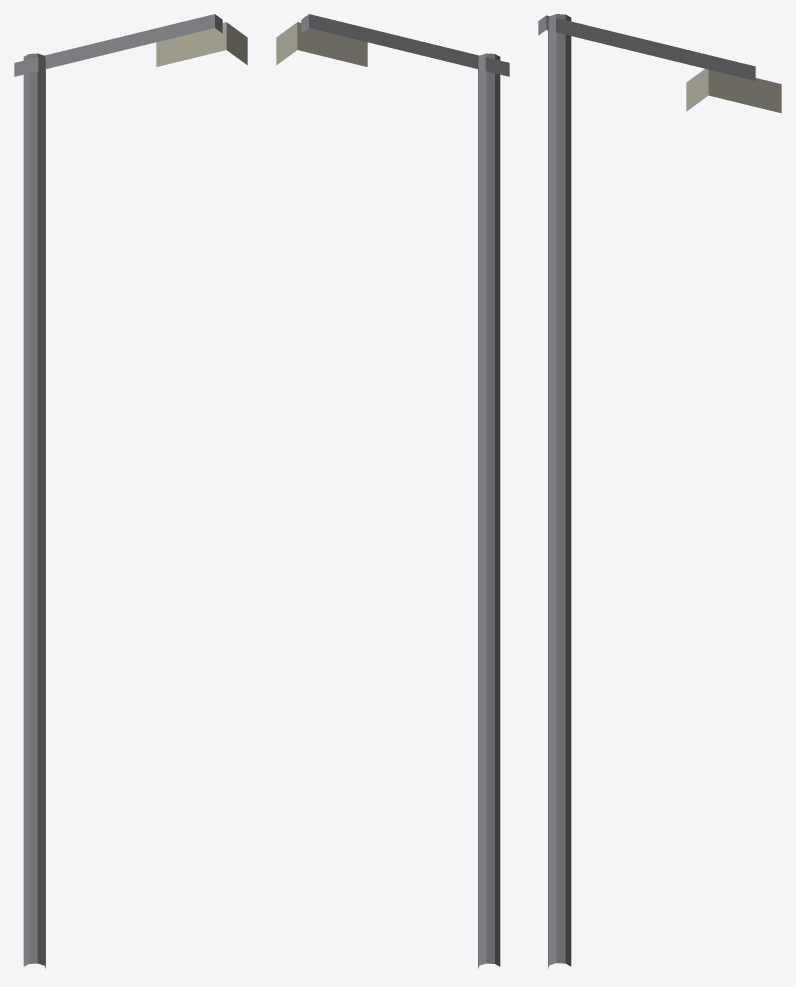
Rendered from streetlight.glb.
3 renders of one model, left to right at view 1: azimuth 30°, elevation 25°; view 2: azimuth 150°, elevation 25°; view 3: azimuth 330°, elevation 25°, orthographic. The views are drawn at different scales.
Parts seen in each view (by area): view 1: asset; view 2: asset; view 3: asset.
Boxes of the visible parts, <box> form: asset: <box>14,14,247,968</box>; asset: <box>276,14,509,968</box>; asset: <box>538,14,781,968</box>.
Bounding box in the file's own units: 1.31 × 5.2 × 0.22.
